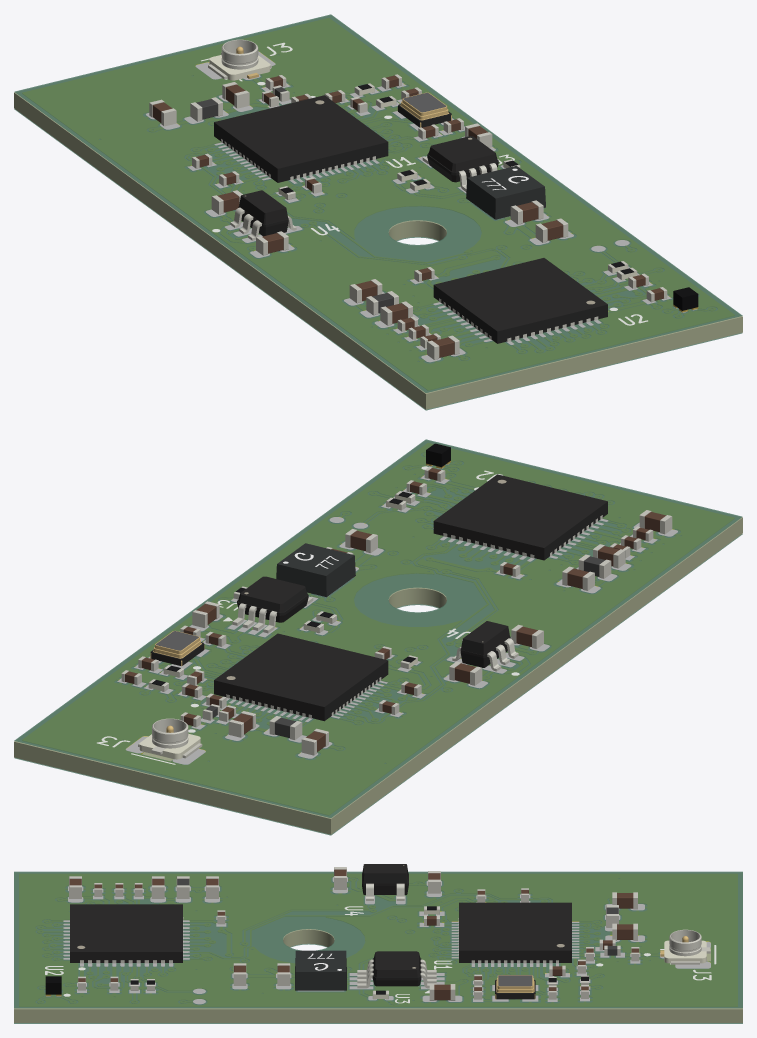
Rendered from current-df40-connectors.glb.
The picture shows the model from 3 angles, top to bottom: view 1: azimuth 30°, elevation 25°; view 2: azimuth 150°, elevation 25°; view 3: azimuth 270°, elevation 25°; orthographic projection. The views are drawn at different scales.
Parts seen in each view (by area): view 1: =>[0:1:1:52], =>[0:1:1:47], =>[0:1:1:54], =>[0:1:1:17], =>[0:1:1:27], =>[0:1:1:48], =>[0:1:1:31], =>[0:1:1:15], =>[0:1:1:7], =>[0:1:1:13], =>[0:1:1:29], =>[0:1:1:53] (+1 smaller); view 2: =>[0:1:1:52], =>[0:1:1:47], =>[0:1:1:54], =>[0:1:1:17], =>[0:1:1:27], =>[0:1:1:48], =>[0:1:1:31], =>[0:1:1:15], =>[0:1:1:7], =>[0:1:1:13], =>[0:1:1:29], =>[0:1:1:53]; view 3: =>[0:1:1:52], =>[0:1:1:47], =>[0:1:1:54], =>[0:1:1:17], =>[0:1:1:27], =>[0:1:1:48], =>[0:1:1:9] (×10), =>[0:1:1:15], =>[0:1:1:31], =>[0:1:1:7], =>[0:1:1:13], =>[0:1:1:29] (+4 smaller).
Boxes of the visible parts, box(x1,y1,x2,y2) form: =>[0:1:1:52]: box(14, 14, 742, 392); =>[0:1:1:47]: box(22, 18, 734, 389); =>[0:1:1:54]: box(14, 16, 742, 409); =>[0:1:1:17]: box(214, 95, 388, 182); =>[0:1:1:27]: box(433, 258, 607, 343); =>[0:1:1:48]: box(146, 51, 696, 362); =>[0:1:1:31]: box(466, 166, 545, 219); =>[0:1:1:15]: box(422, 136, 498, 191); =>[0:1:1:7]: box(230, 190, 296, 240); =>[0:1:1:13]: box(208, 39, 271, 80); =>[0:1:1:29]: box(397, 92, 451, 127); =>[0:1:1:53]: box(14, 109, 742, 410); =>[0:1:1:52]: box(14, 439, 742, 817); =>[0:1:1:47]: box(22, 443, 734, 814); =>[0:1:1:54]: box(14, 441, 742, 834); =>[0:1:1:17]: box(214, 633, 388, 721); =>[0:1:1:27]: box(433, 474, 607, 560); =>[0:1:1:48]: box(117, 463, 677, 764); =>[0:1:1:31]: box(276, 543, 355, 597); =>[0:1:1:15]: box(232, 576, 313, 633); =>[0:1:1:7]: box(452, 621, 518, 671); =>[0:1:1:13]: box(138, 718, 202, 759); =>[0:1:1:29]: box(150, 630, 204, 666); =>[0:1:1:53]: box(14, 534, 742, 835); =>[0:1:1:52]: box(14, 871, 742, 1008); =>[0:1:1:47]: box(19, 874, 737, 1006); =>[0:1:1:54]: box(14, 873, 742, 1022); =>[0:1:1:17]: box(458, 902, 571, 963); =>[0:1:1:27]: box(70, 904, 183, 963); =>[0:1:1:48]: box(46, 877, 710, 1004); =>[0:1:1:9] (×10): box(69, 867, 637, 1000); =>[0:1:1:15]: box(357, 951, 436, 988); =>[0:1:1:31]: box(295, 950, 346, 990); =>[0:1:1:7]: box(362, 864, 408, 900); =>[0:1:1:13]: box(660, 929, 710, 964); =>[0:1:1:29]: box(495, 975, 535, 999).
Bounding box in the file's own units: 0.02 × 0.00462 × 0.045.
